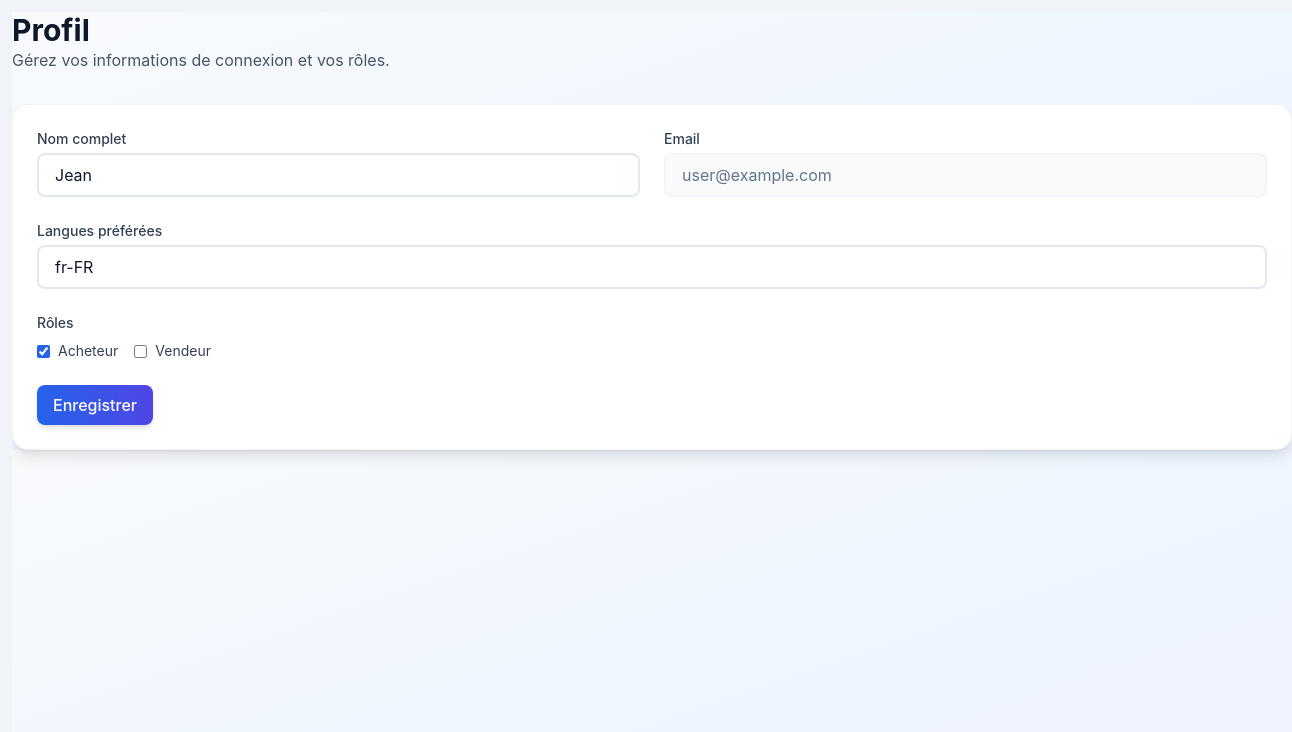
Test: ProfilePage › met à jour le profil
Step 1. Click the button "Enregistrer" → (95,405), box [37,385,153,425]
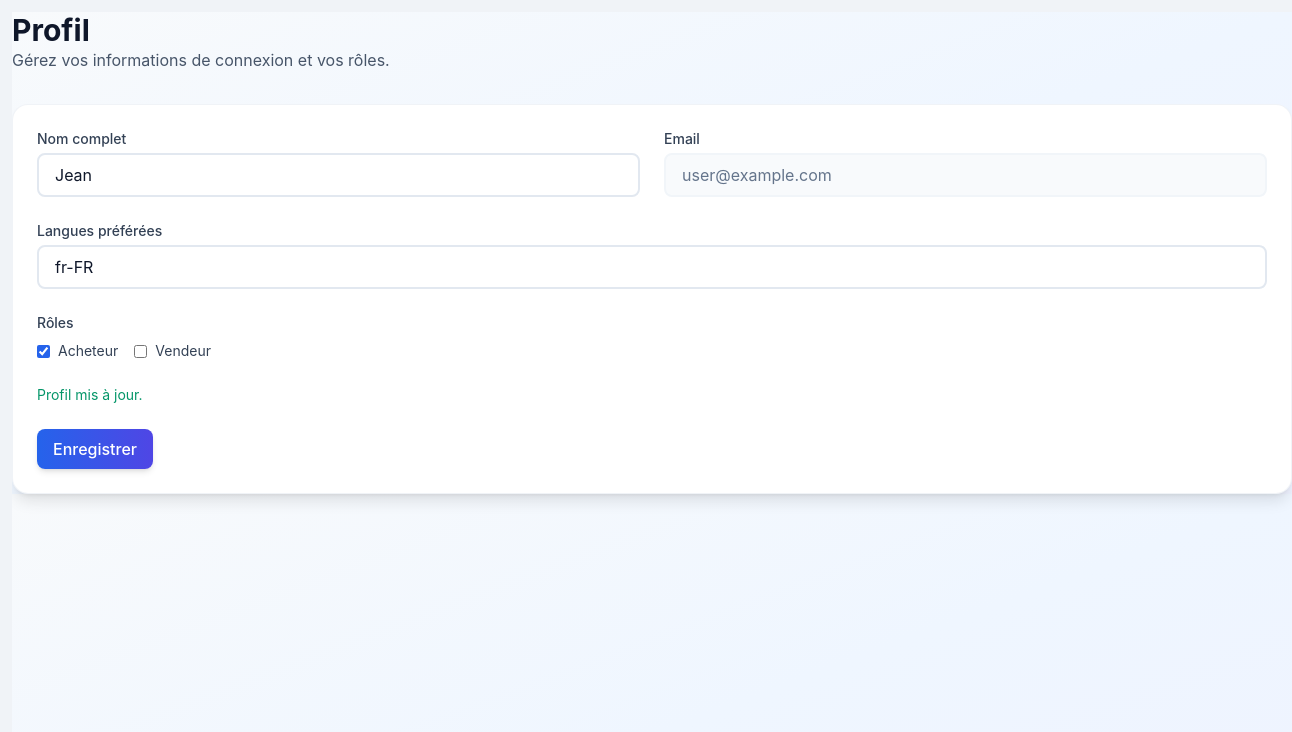
Now the text "Profil mis à jour." is shown, box [37,386,142,403]
